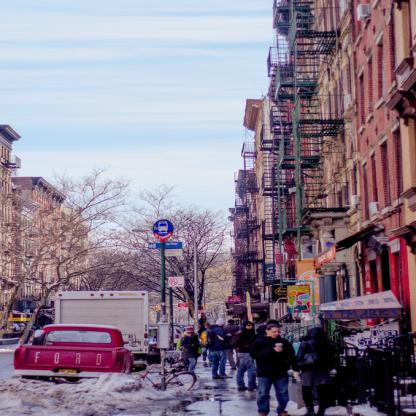Car: (10, 326, 132, 379)
Truck: (9, 326, 136, 378), (52, 292, 150, 354)
